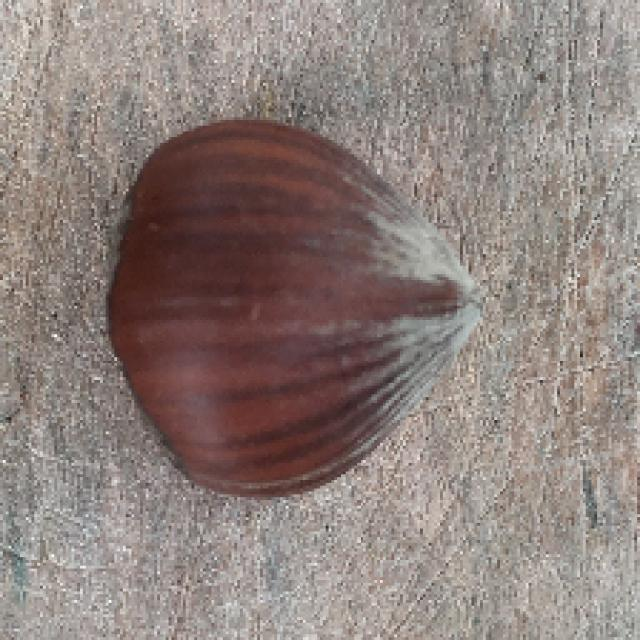qualityHazelnut: (92, 102, 498, 513)
